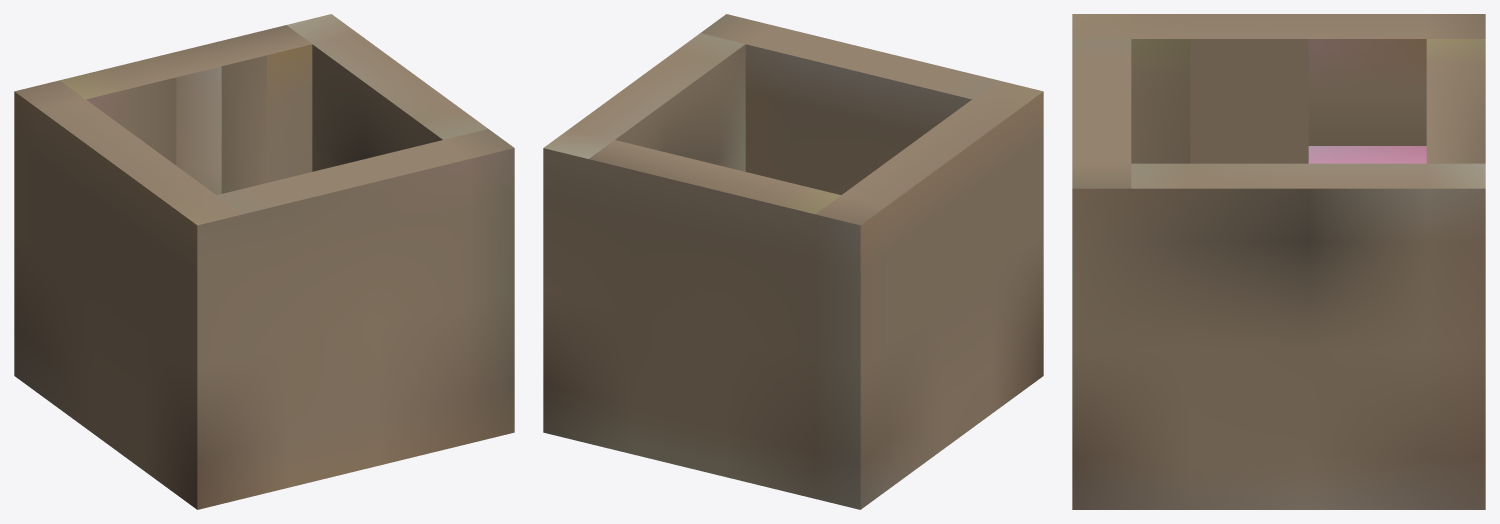
File: OfficeWarehouseStorageBoxOpen_00.obj
3 renders of one model, left to right at view 1: azimuth 30°, elevation 25°; view 2: azimuth 150°, elevation 25°; view 3: azimuth 270°, elevation 25°, orthographic. The views are drawn at different scales.
Visible parts, largest first — view 1: OfficeWarehouseStorageBoxOpen_00; view 2: OfficeWarehouseStorageBoxOpen_00; view 3: OfficeWarehouseStorageBoxOpen_00.
Part boxes in pixels (bbox=[...]): OfficeWarehouseStorageBoxOpen_00: bbox=[14, 14, 514, 509]; OfficeWarehouseStorageBoxOpen_00: bbox=[543, 14, 1043, 509]; OfficeWarehouseStorageBoxOpen_00: bbox=[1072, 14, 1485, 509].
Size of the model in its own units: 0.35 by 0.3 by 0.35.
